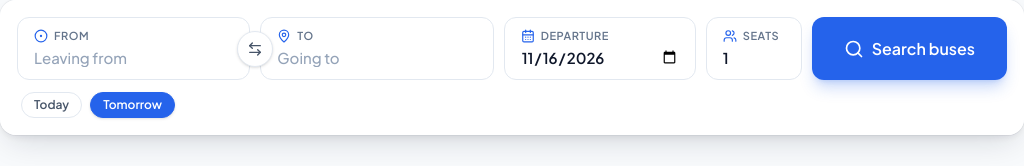
search card quick dates › sets today and tomorrow from the pills
Click the button "Today".
click(52, 105)  # box [21,92,82,118]
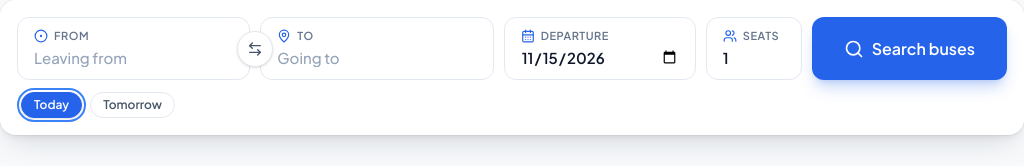
Result: the button "Today" is pressed at [21,92,82,118]
